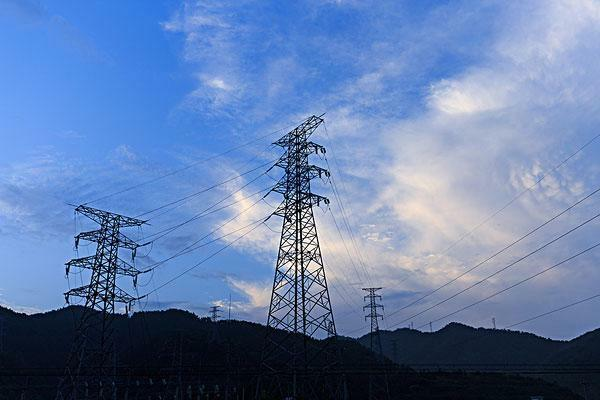power_tower: (256, 113, 343, 335), (63, 204, 138, 383), (359, 286, 391, 355), (205, 303, 224, 326)
